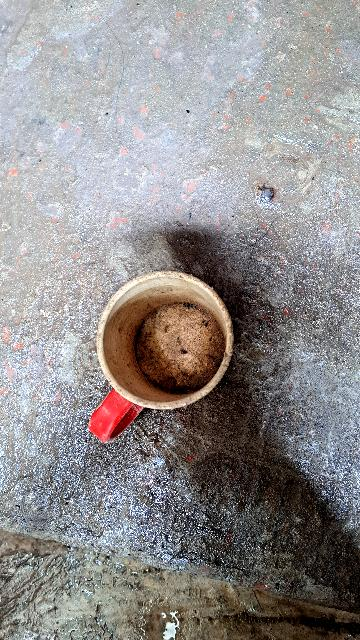hardplastic: (93, 269, 233, 417)
